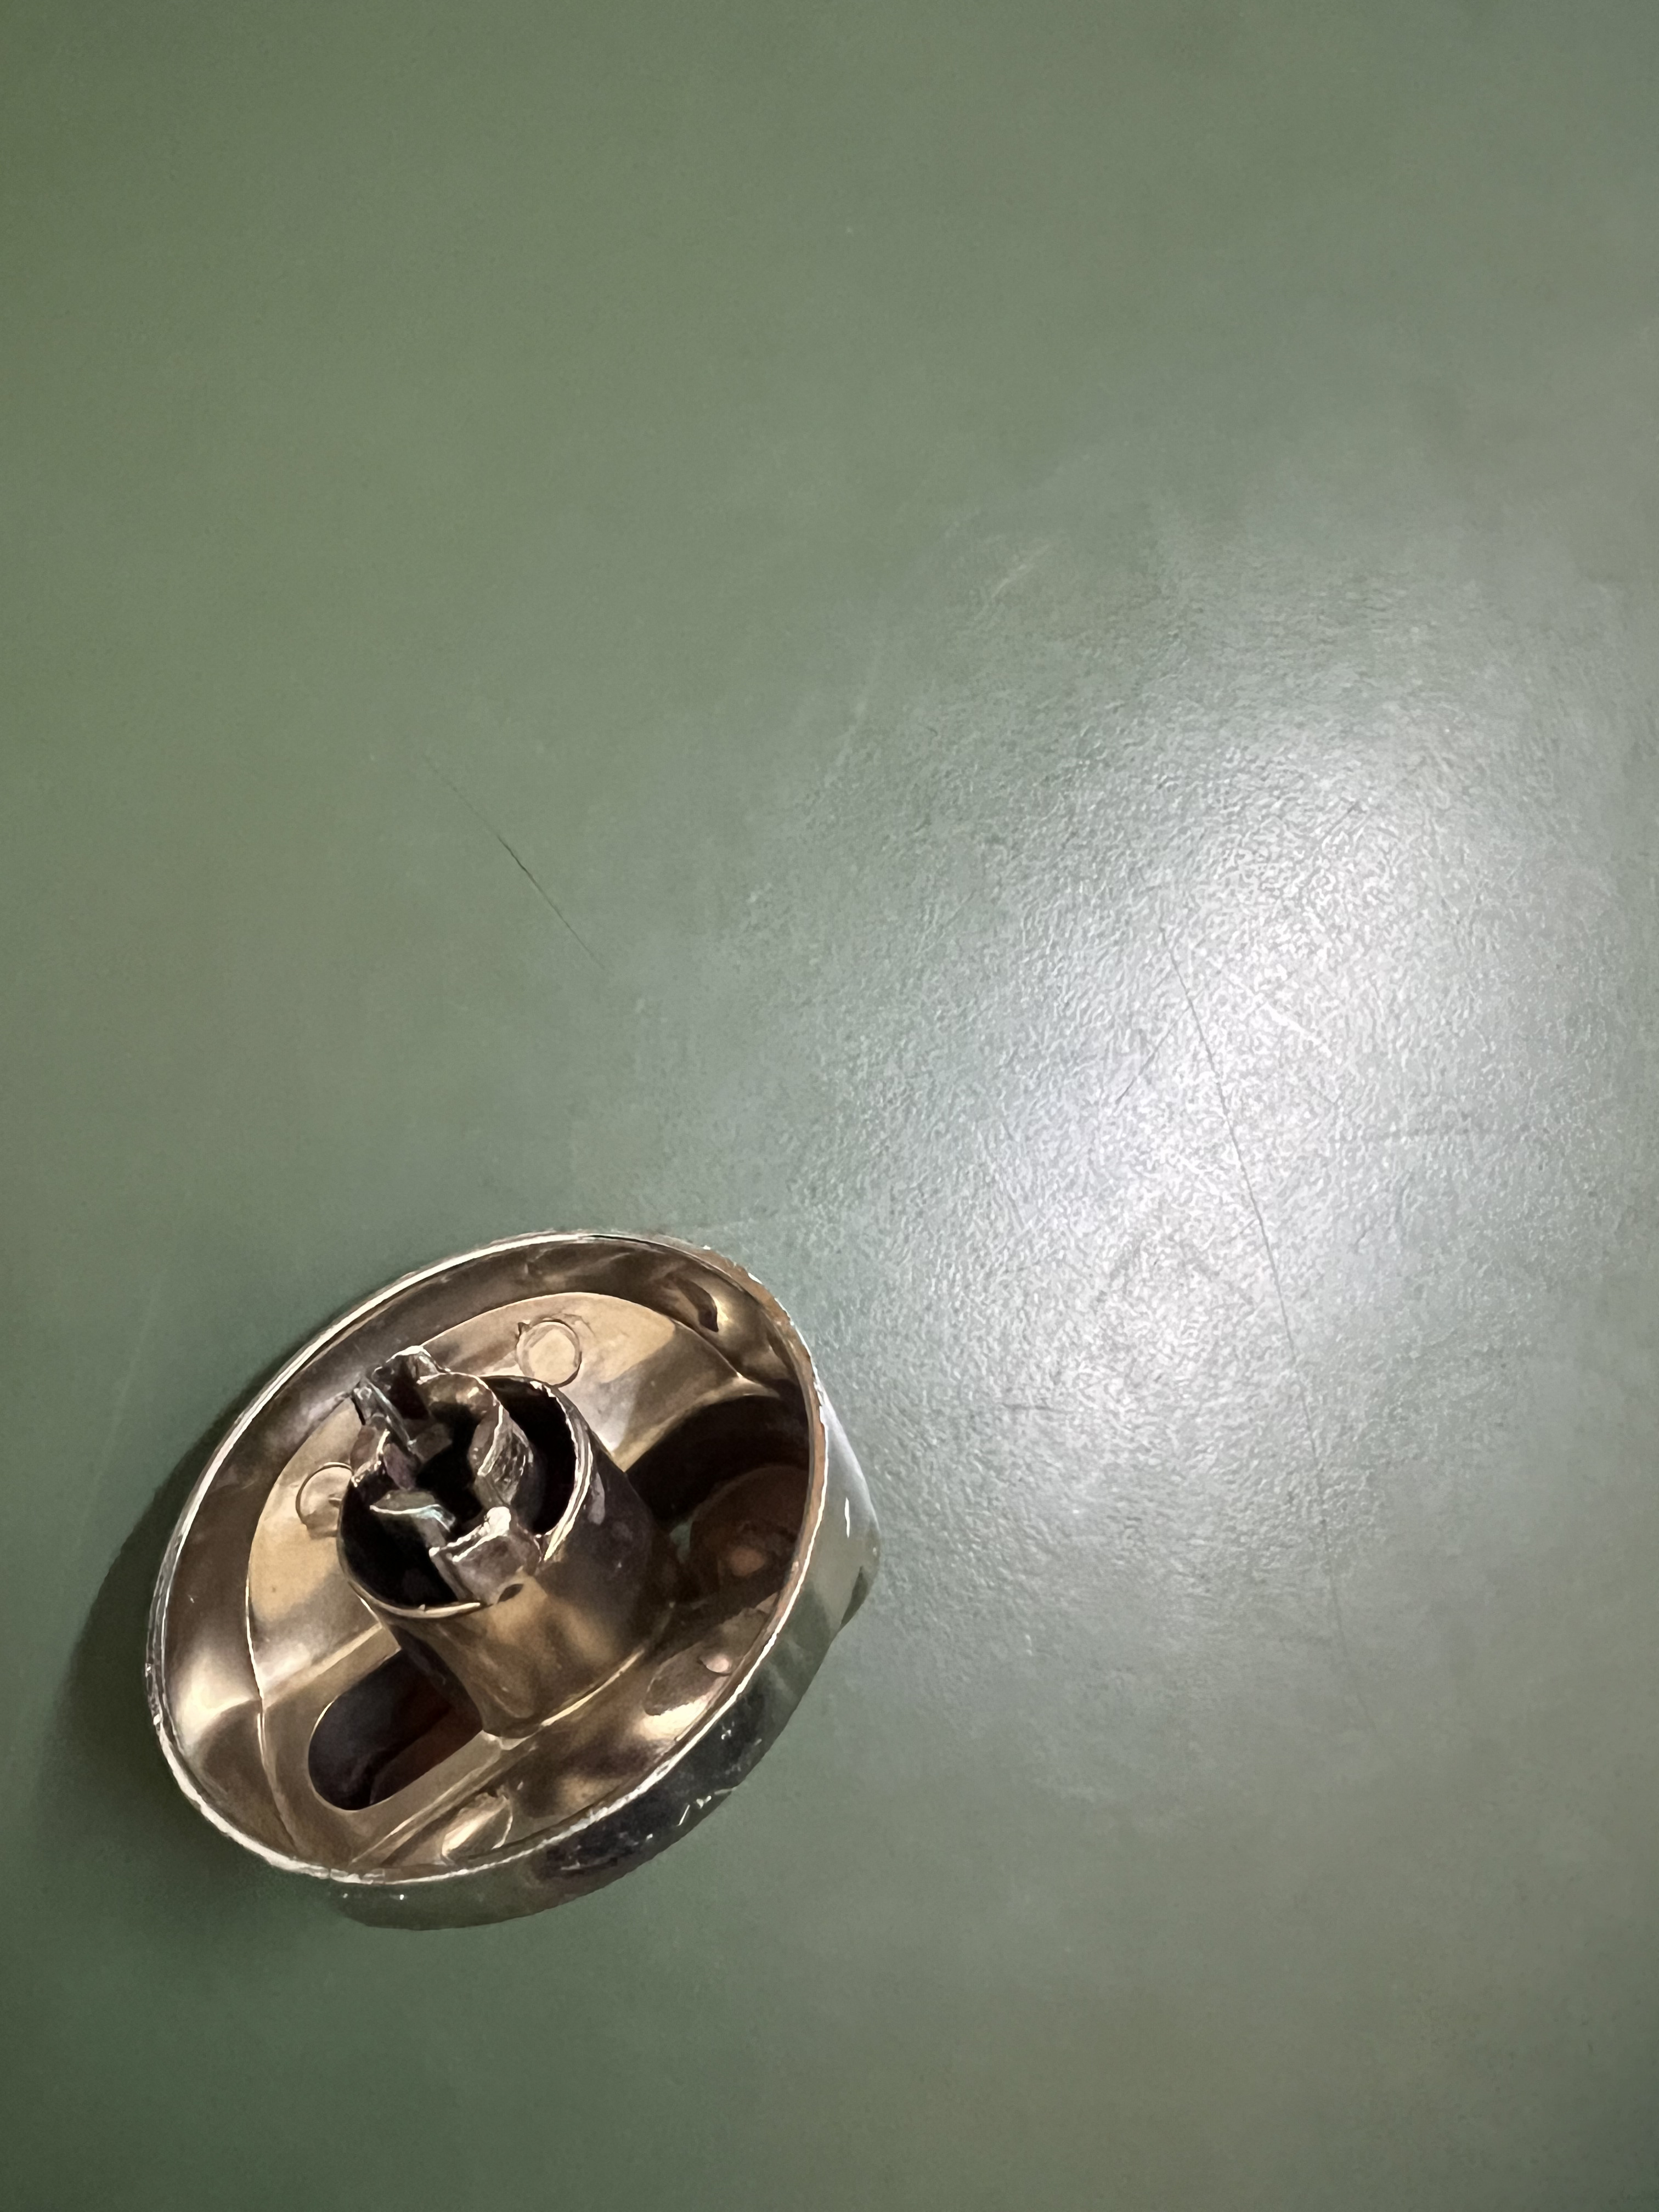regulator: (119, 1230, 894, 1935)
